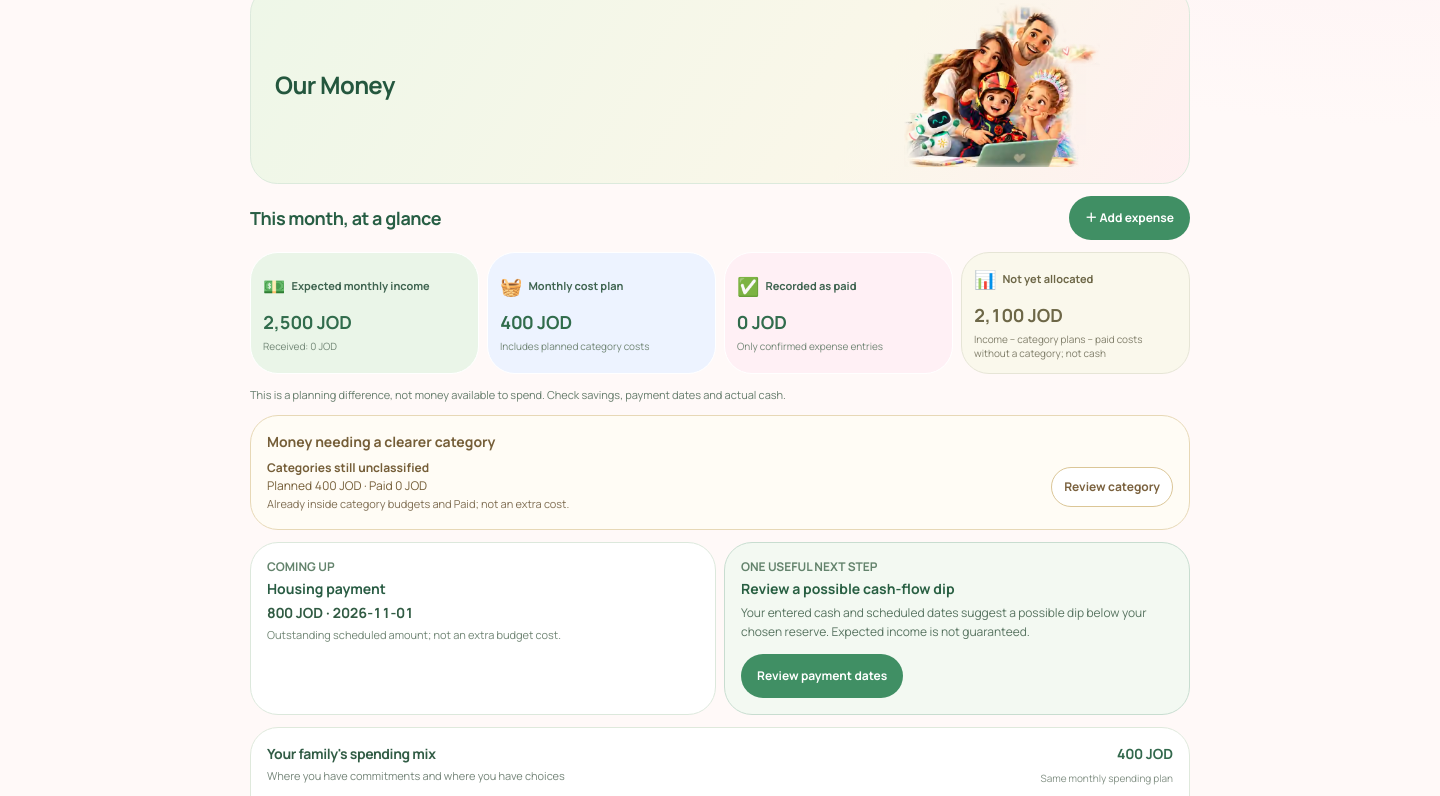
it: Approved core Money concept › edits an existing income once without recording it as a payment
Click the button with test id "money-summary-income". click: (364, 313)
box: 250,252 -> 479,374
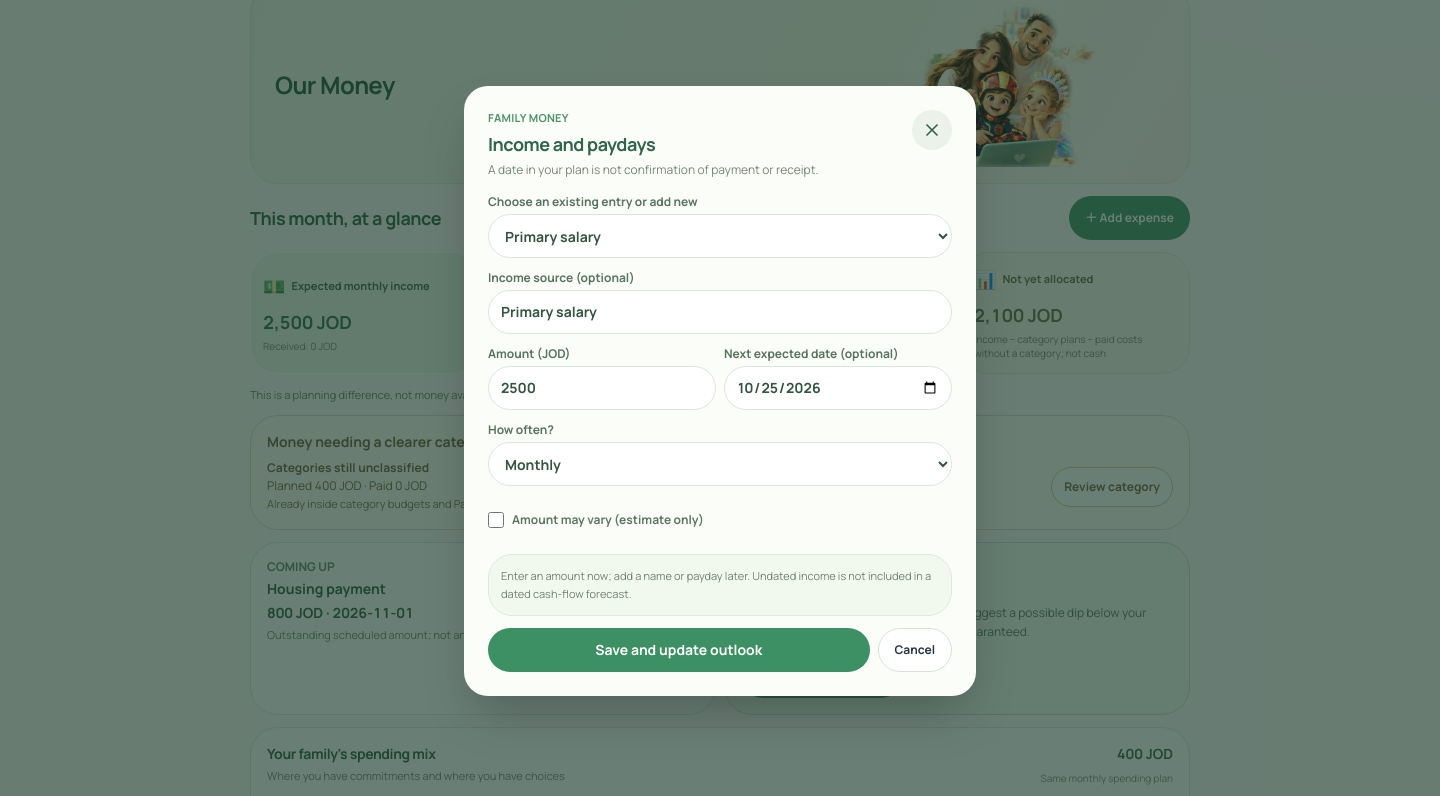
Select "Primary salary" in the dropdown labelled "Choose an existing entry or add new". click: (720, 236)
box: 488,214 -> 952,258
Type "2026-11-04" into the date field labelled "Next expected date (optional)". click: (838, 388)
box: 724,366 -> 952,410
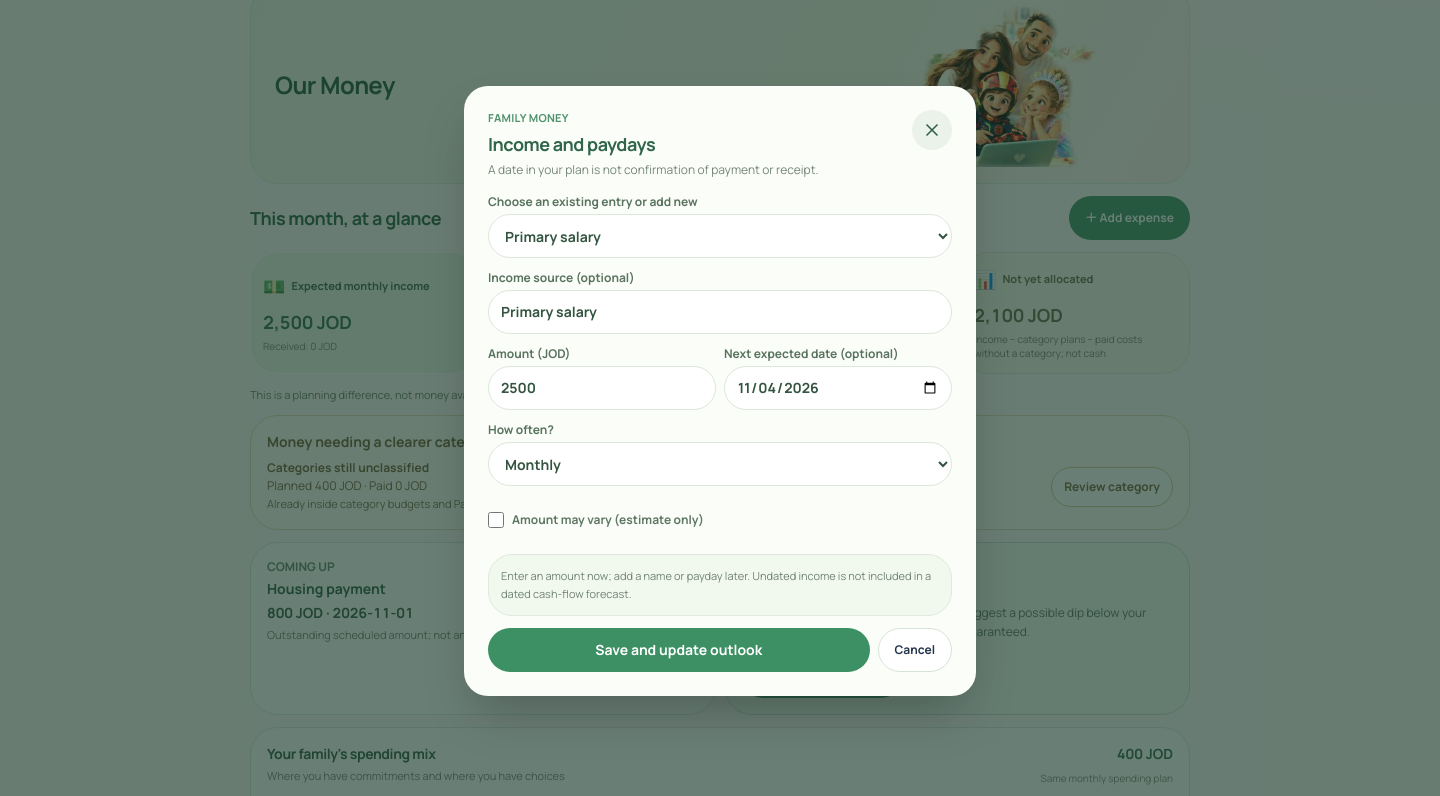
Click the button "Save and update outlook". click: (679, 650)
box: 488,628 -> 870,672
(page scrolled)
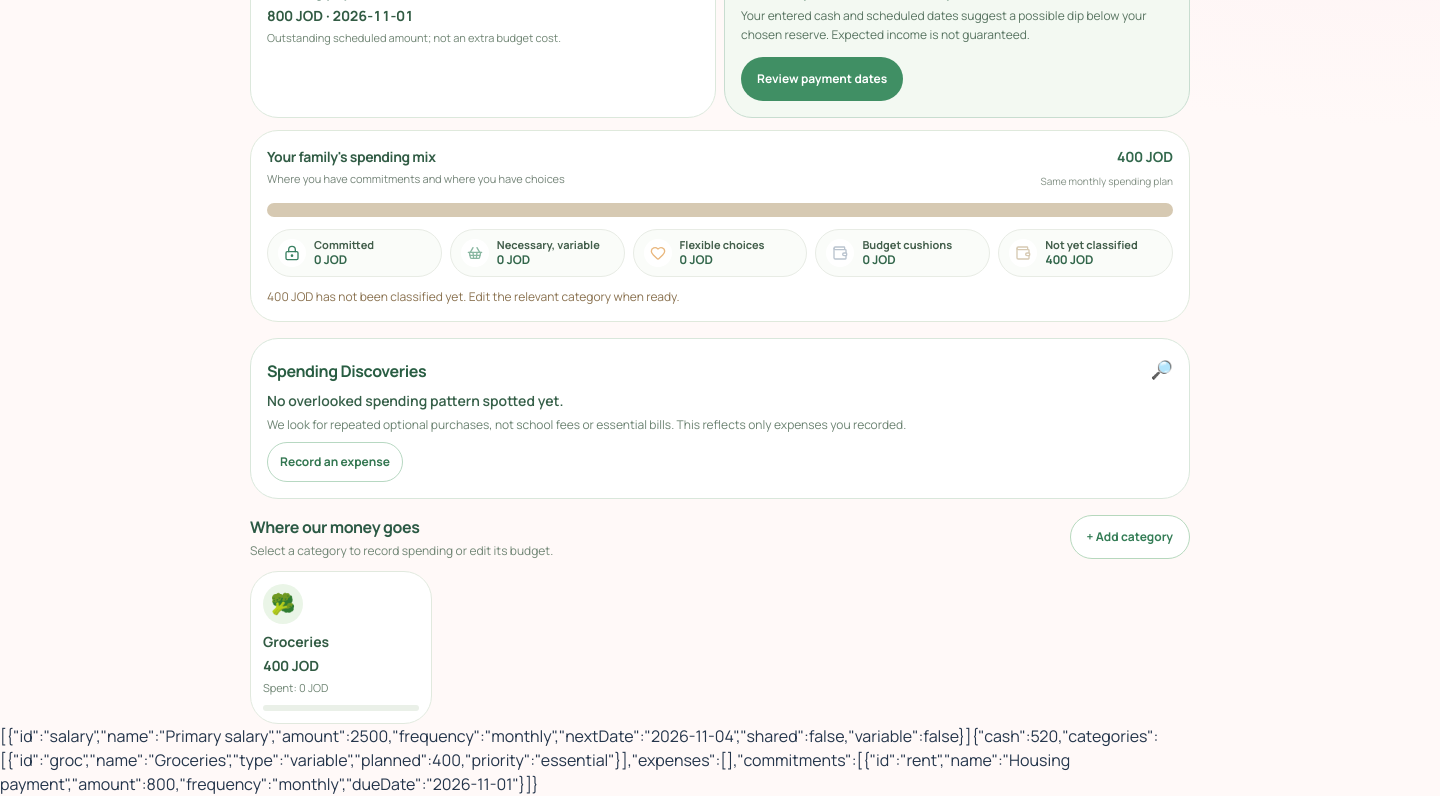
Expected: the text with test id "income-records" does not show "receivedDates", 0,725 -> 972,747
Expected: the dialog is gone
Expected: the text with test id "income-records" shows "2026-11-04", 0,725 -> 972,747
